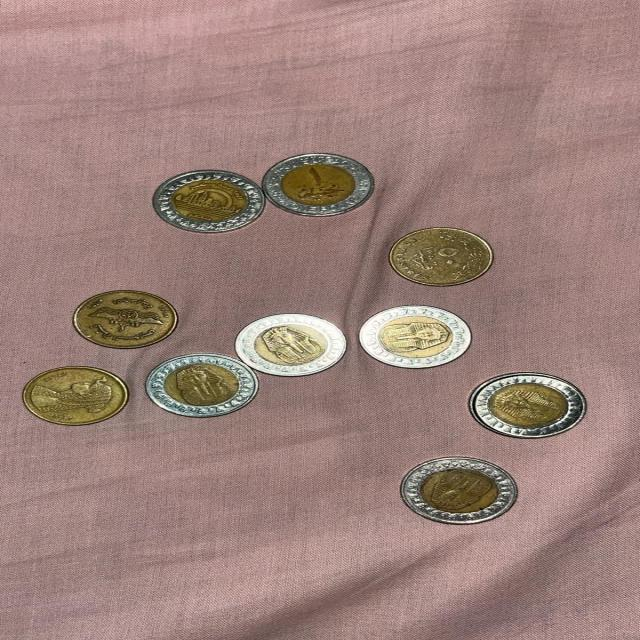Half Pound: (374, 224, 518, 289), (65, 286, 188, 356), (20, 360, 130, 432)
One Pound: (148, 162, 272, 245), (398, 451, 525, 524), (270, 148, 386, 226), (474, 373, 603, 443), (352, 300, 470, 372), (223, 315, 362, 374), (148, 358, 262, 415)
